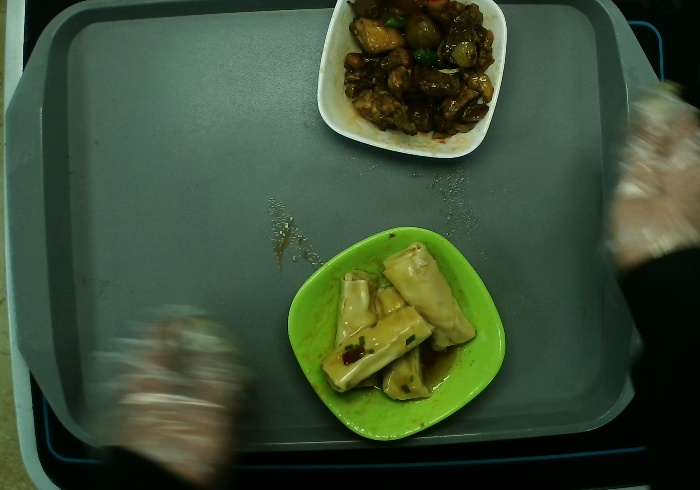SHKJ-Bai_Se_Xiao_Fang_Die: (314, 1, 515, 165)
SHKJ-Lv_Se_Cai_Die: (283, 223, 513, 447)
